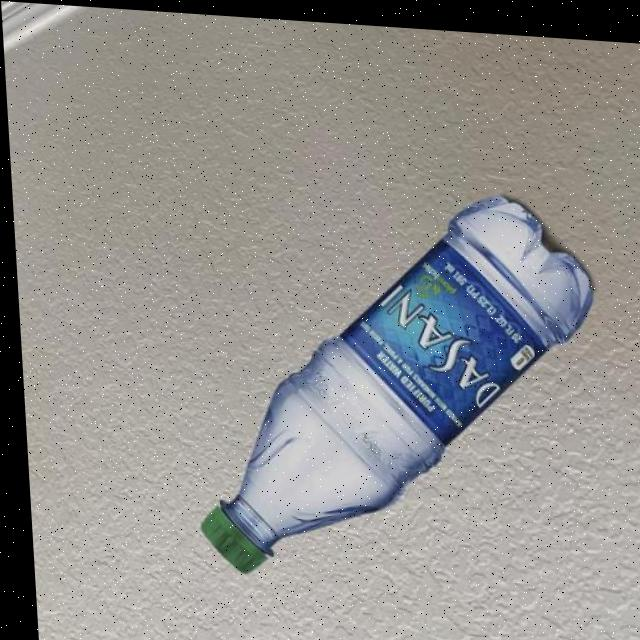bottle: (176, 170, 606, 591)
